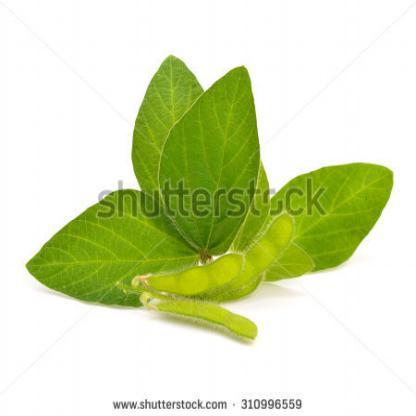Soyabean leaf: (24, 186, 199, 308), (160, 64, 266, 258), (235, 160, 394, 278), (128, 52, 208, 242)
